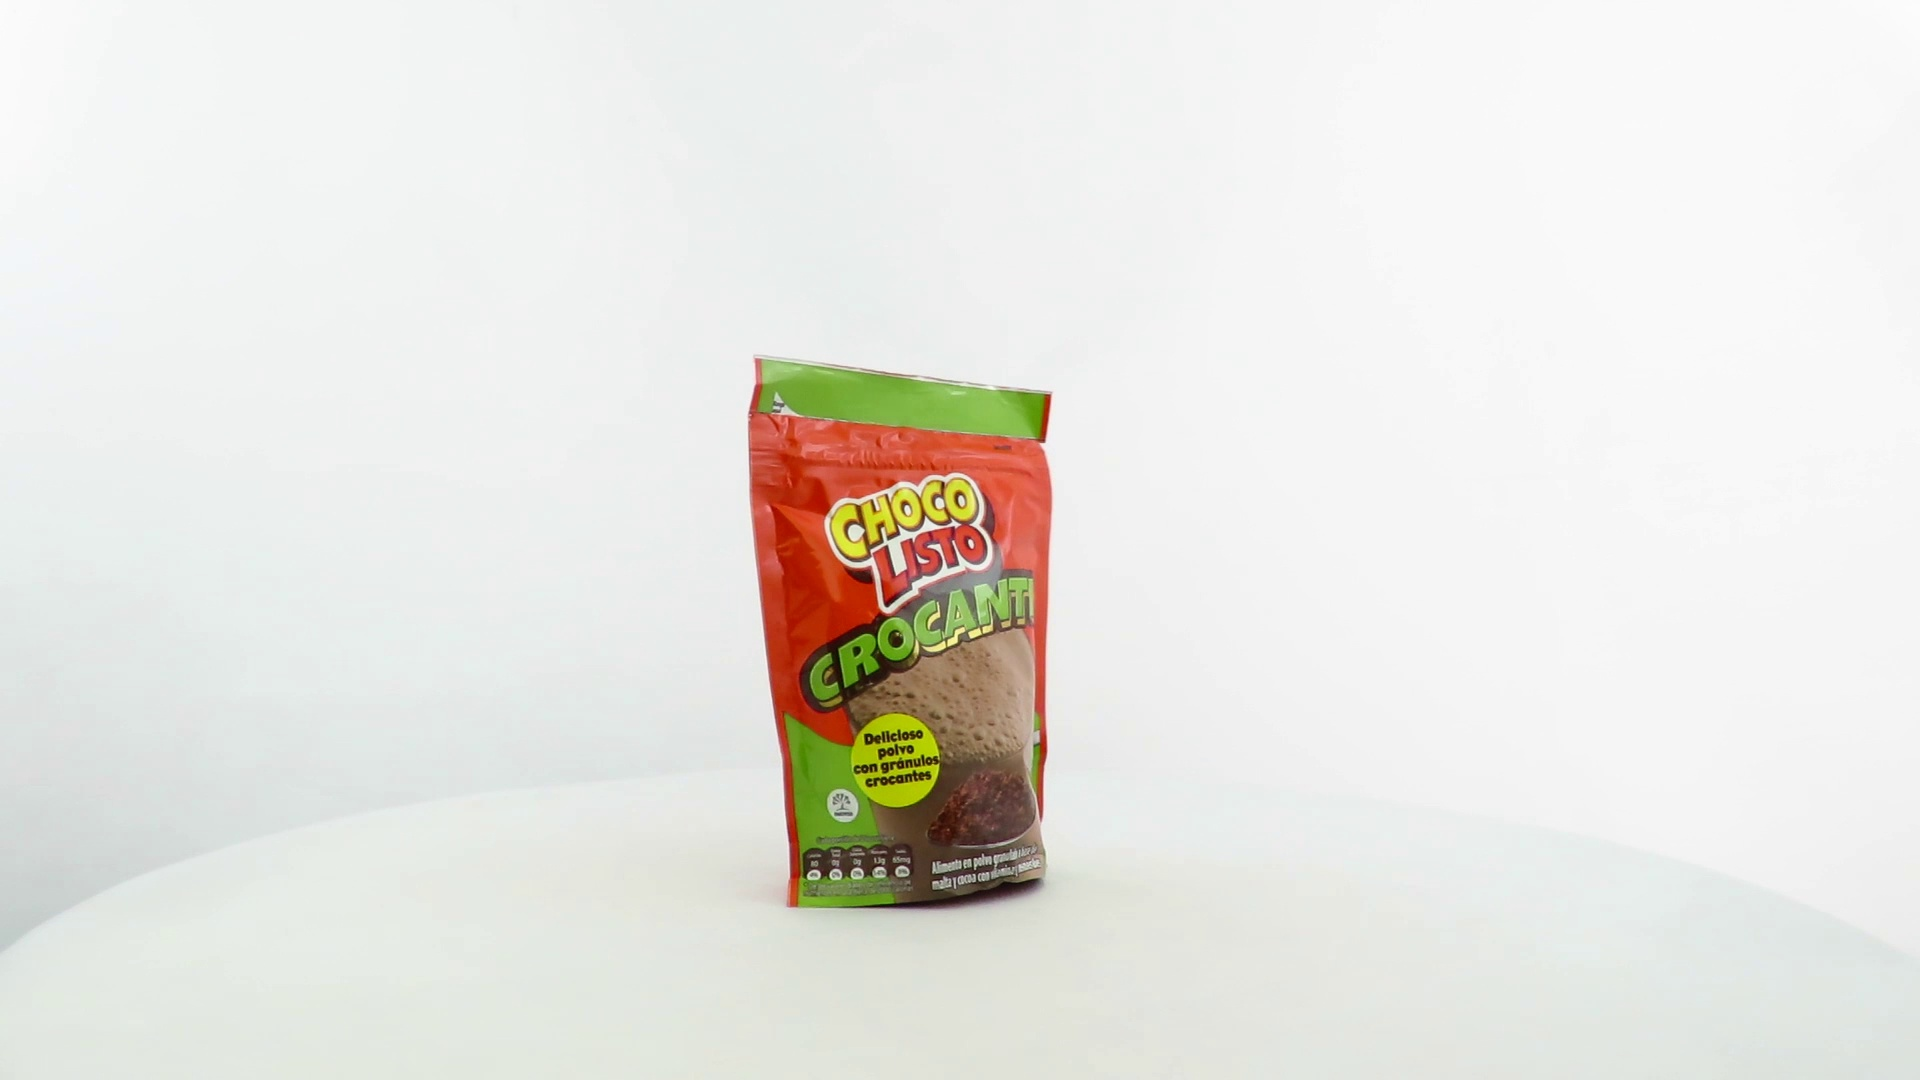COL0170102DYP10000: (742, 349, 1059, 916)
